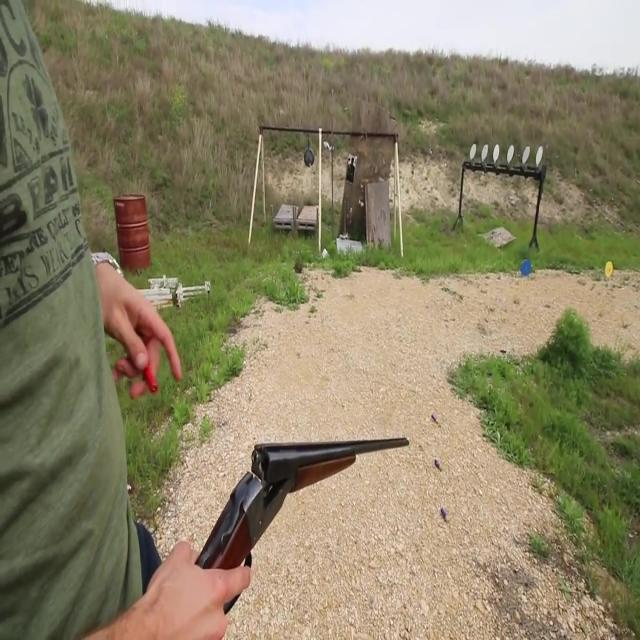Weapon: (165, 353, 432, 630)
